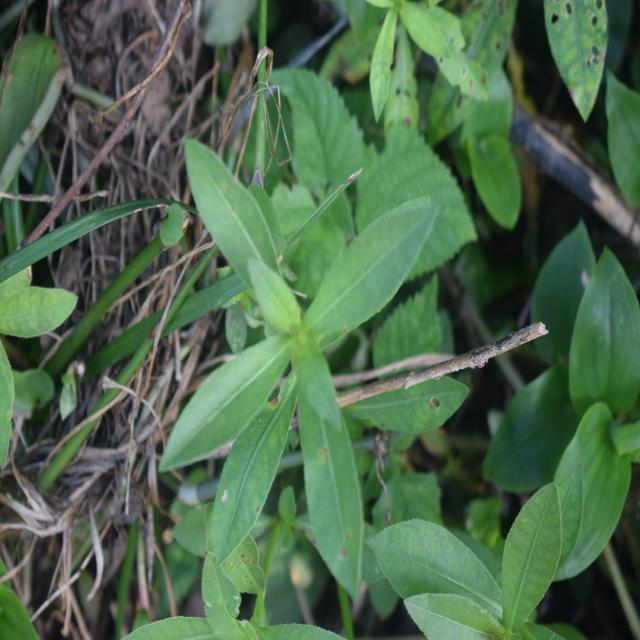Alligatorweed: (176, 136, 413, 582)
